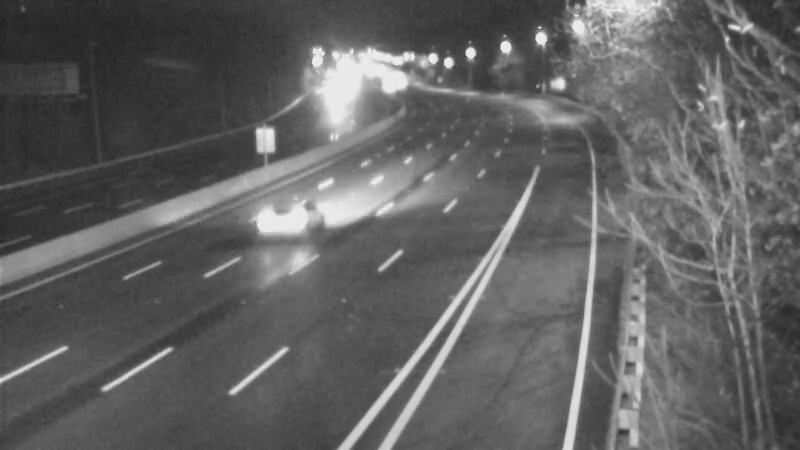vehicle: (236, 181, 316, 261)
